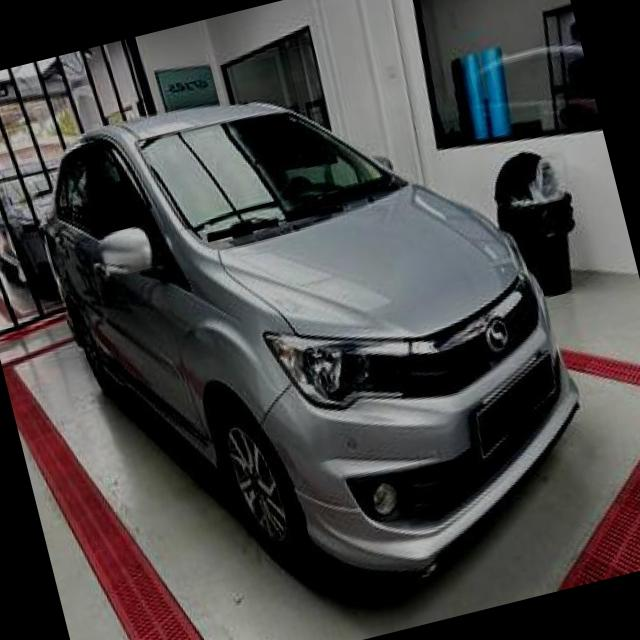PeroduaBezza: (17, 26, 615, 640)
